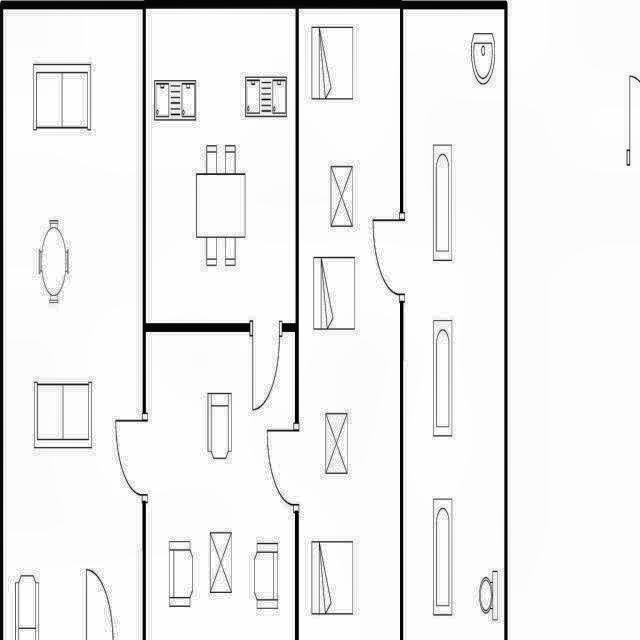room: (3, 9, 143, 640), (299, 9, 400, 640), (403, 9, 504, 640), (146, 9, 296, 323), (146, 332, 295, 640)
